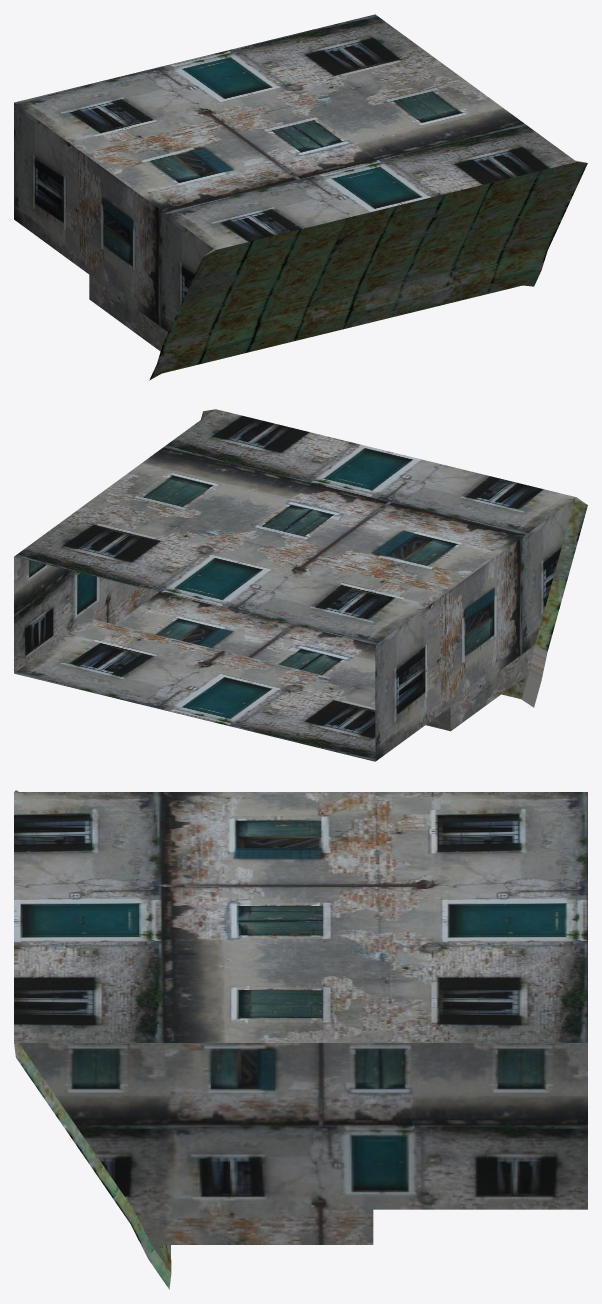
Rendered from houseduchamp14_wtf.obj.
3 views of the same model, one above another, from view 1: azimuth 30°, elevation 25°; view 2: azimuth 150°, elevation 25°; view 3: azimuth 270°, elevation 25° (orthographic). The views are drawn at different scales.
Visible parts, largest first — view 1: group2; view 2: group2; view 3: group2.
Boxes of the visible parts, x1,y1,x2,y2 form: group2: (14,14,587,380); group2: (14,409,587,761); group2: (14,790,587,1289).
Size of the model in its own units: 660 by 275 by 599.
